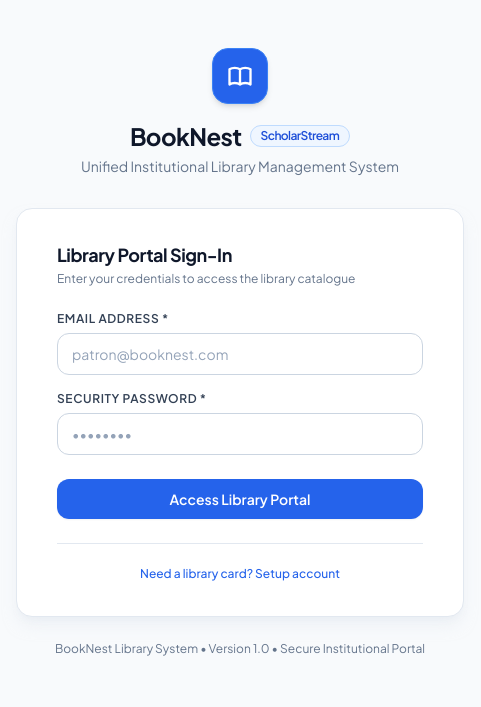
Scenario: BookNest Frontend Consistency & CRUD Enforcement › T27 — Error alert check
Type "wrong@booknest.com" into the field with placeholder "patron@booknest.com" at (240, 354), box [57, 332, 423, 374]
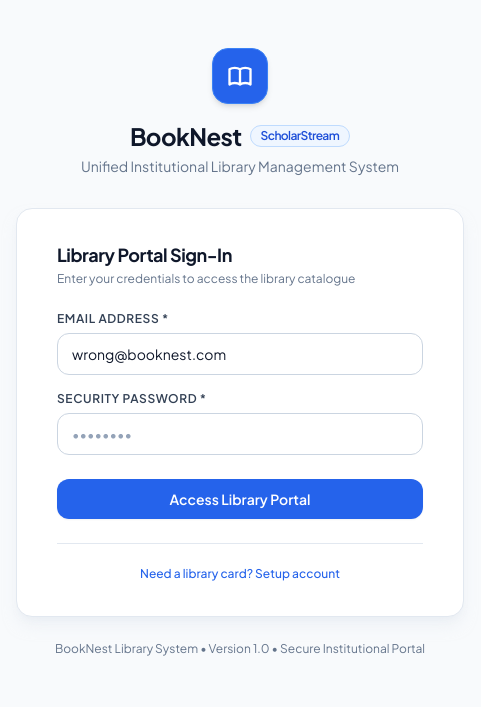
Type "passwordWrong" into the password field with placeholder "••••••••" at (240, 434), box [57, 412, 423, 454]
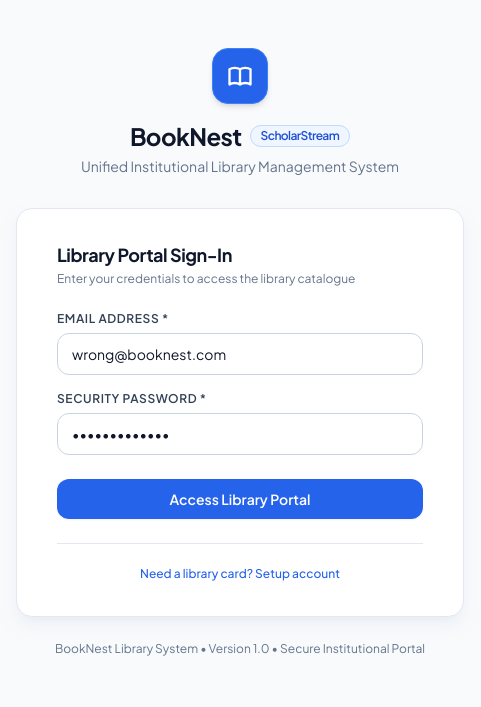
Click the button "Access Library Portal" at (240, 498), box [57, 478, 423, 518]
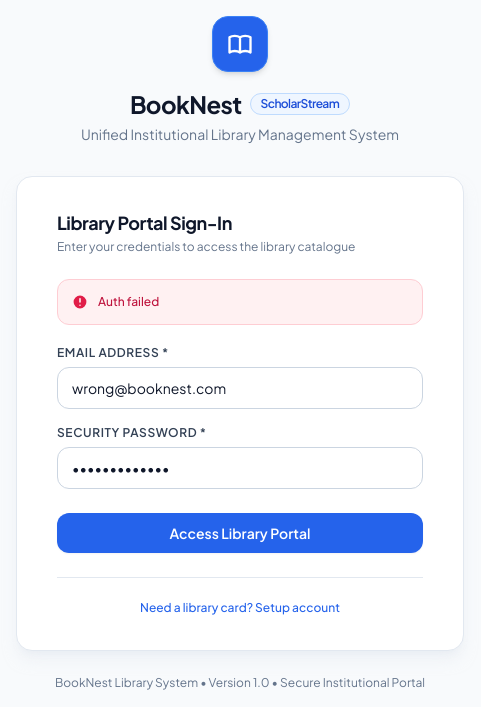
Now the text "Auth failed" is shown, box [98, 294, 159, 310]
